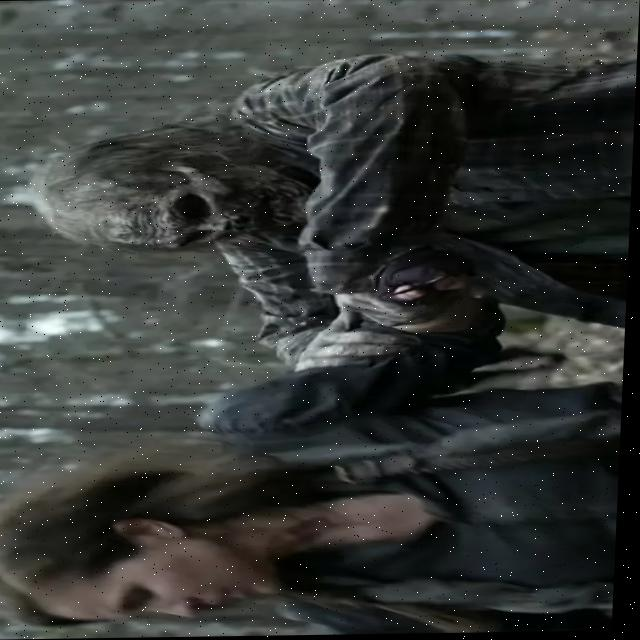Zombie: (57, 141, 313, 246)
human: (0, 492, 313, 622)
